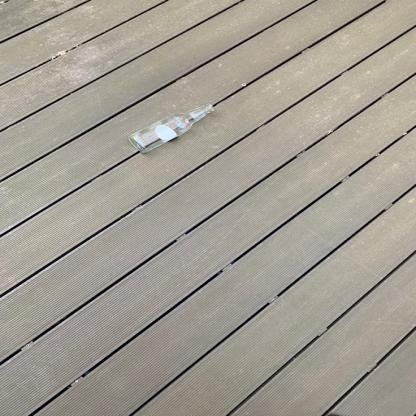trash: (126, 104, 214, 156)
